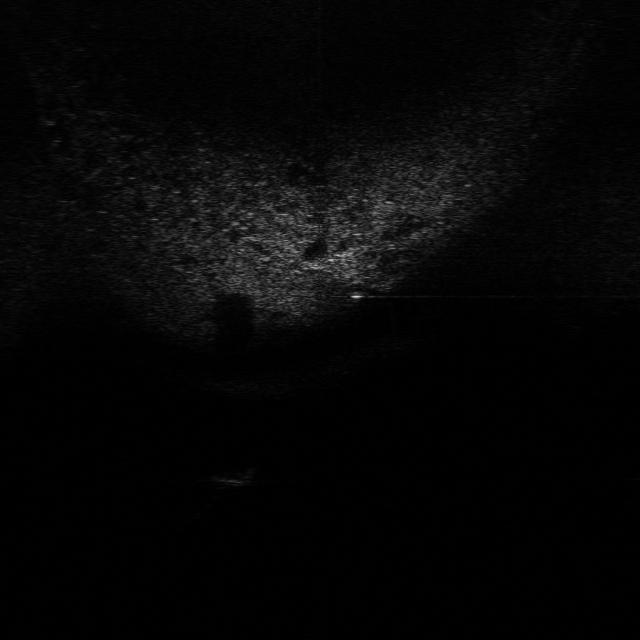cube: (203, 460, 259, 490)
